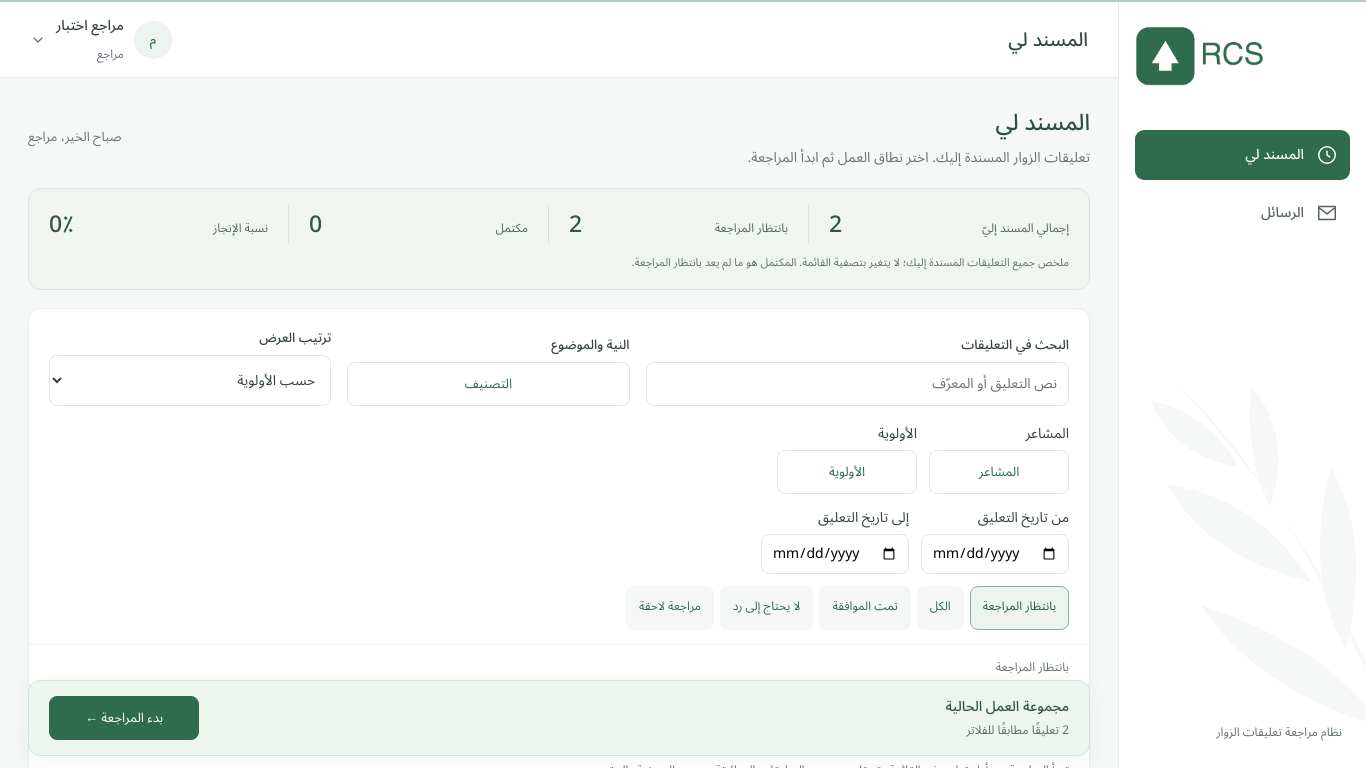
Test: Focused Review Mode › edits explicitly, preserves the original and sends text with expected version
Expected: the heading "قائمة المراجعة (2)" is shown, [953,727,1069,761]
Click the button "بدء المراجعة ←" at x=124, y=718, box [49,696,199,740]
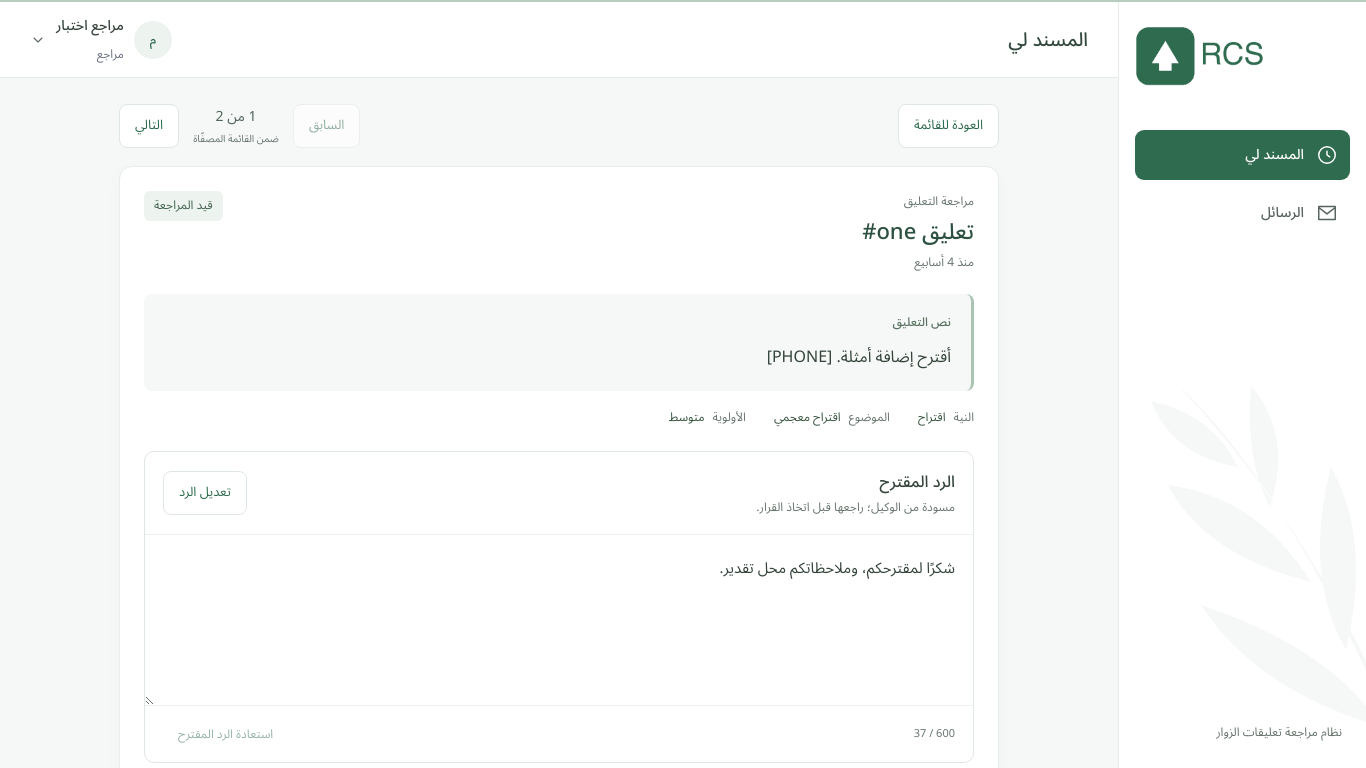
Click the button "تعديل الرد" at x=205, y=493, box [163,471,247,515]
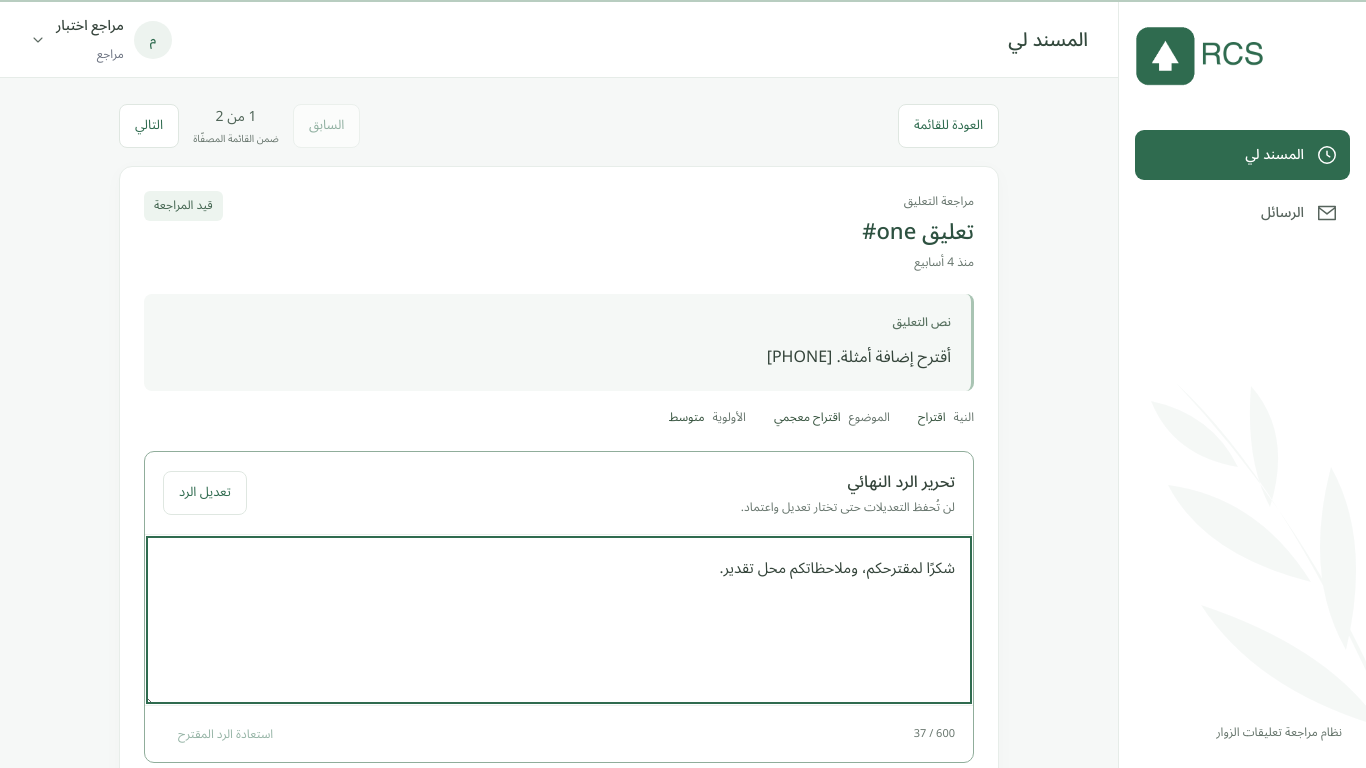
Replace the text in the text box named "الرد المقترح" with "شكرًا لكم. نقدر مقترحكم بتوفير أمثلة توضيحية." at x=559, y=620, box [145,535,973,705]
(page scrolled)
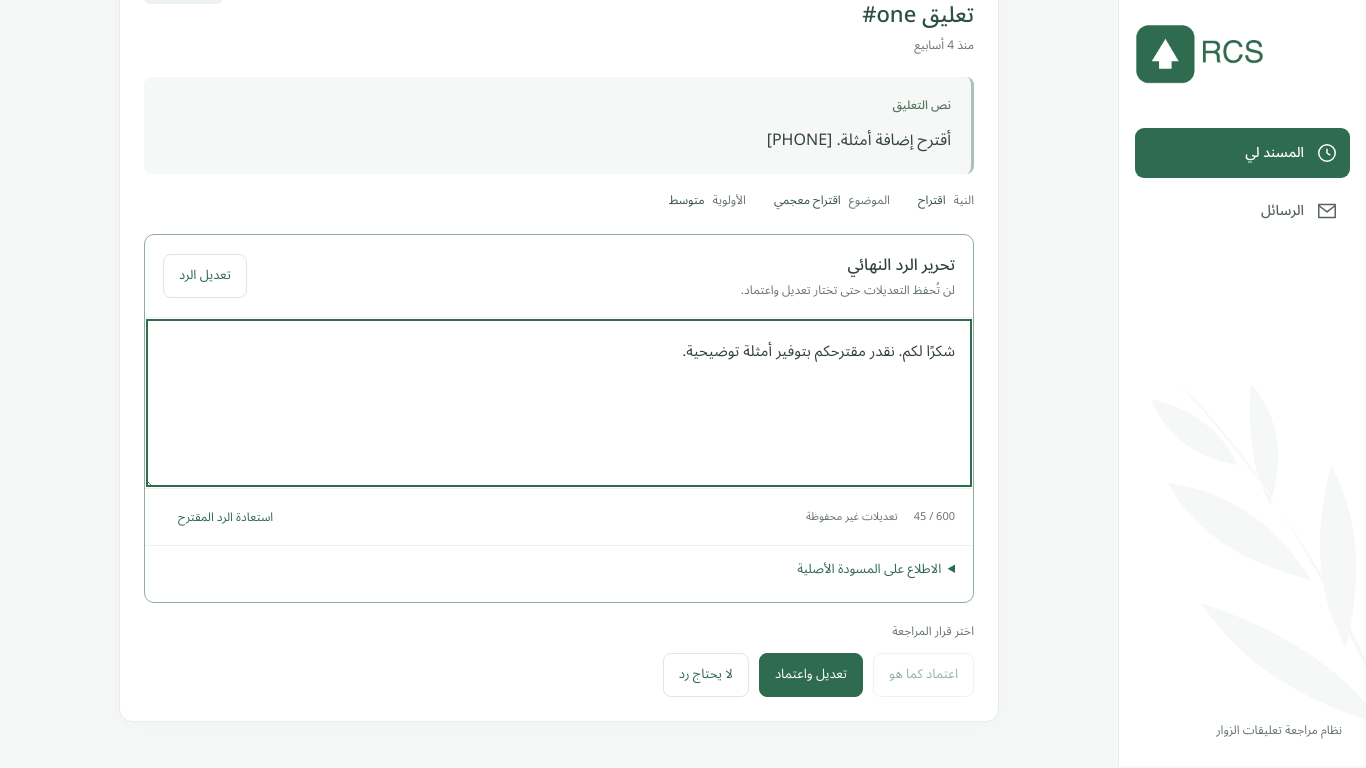
Expected: the text "تعديلات غير محفوظة" is shown, [806,508,898,527]
Expected: the button "اعتماد كما هو" is disabled, [873,653,974,697]
Click the button "تعديل واعتماد" at x=811, y=675, box [759,653,863,697]
(page scrolled)
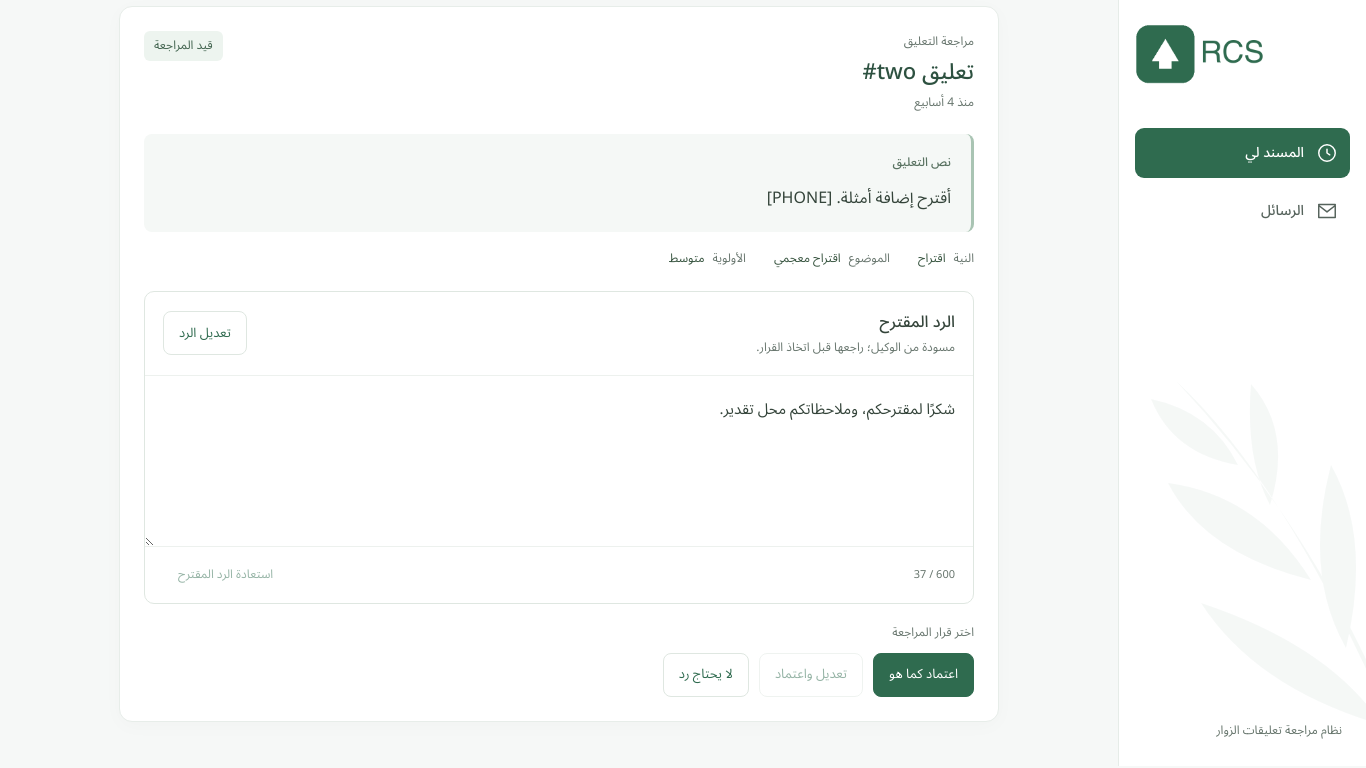
Expected: the heading "تعليق #two" is shown, [862,53,974,92]
